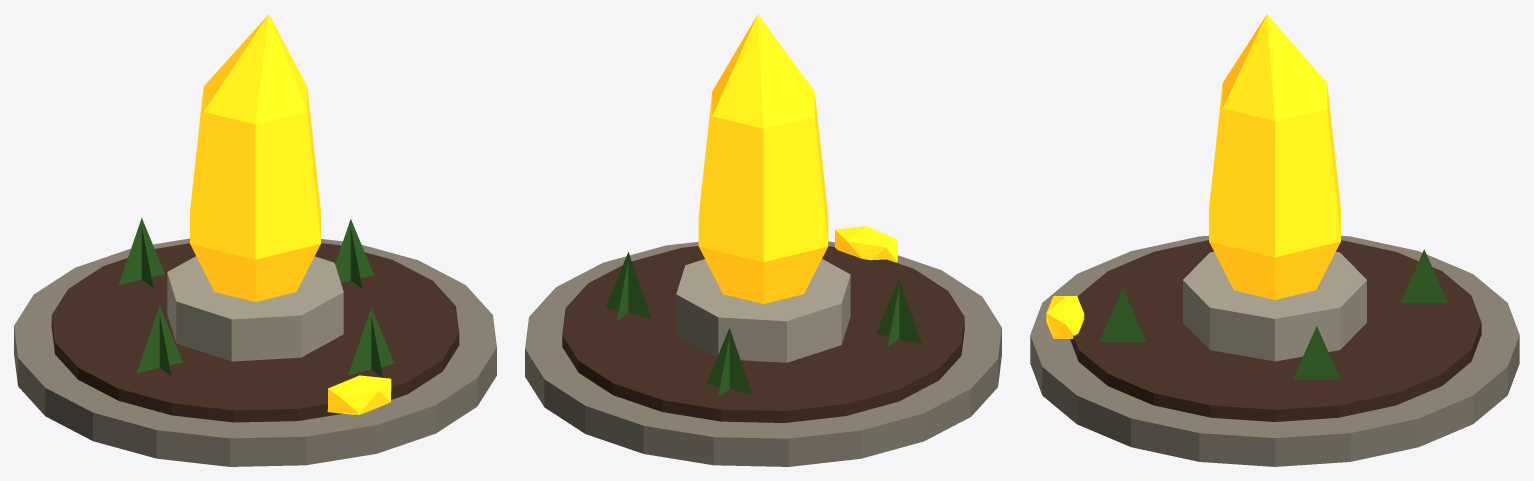
The model's file is topic_plot_ready_for_test.glb.
3 views of the same model, side by side, from view 1: azimuth 30°, elevation 25°; view 2: azimuth 150°, elevation 25°; view 3: azimuth 270°, elevation 25° (orthographic). The views are drawn at different scales.
Visible parts, largest first — view 1: topic_plot_ready_for_test; view 2: topic_plot_ready_for_test; view 3: topic_plot_ready_for_test.
Boxes of the visible parts, bbox=[...] form: topic_plot_ready_for_test: bbox=[14, 14, 496, 466]; topic_plot_ready_for_test: bbox=[525, 14, 1001, 466]; topic_plot_ready_for_test: bbox=[1030, 14, 1519, 466].
Size of the model in its own units: 1.54 by 1.23 by 1.54.
